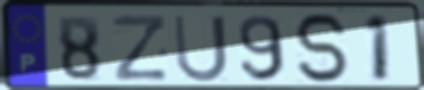1: (362, 13, 395, 84)
8: (55, 14, 104, 83)
9: (236, 14, 288, 83)
S: (291, 11, 354, 86)
U: (171, 13, 231, 85)
Z: (109, 13, 171, 84)
